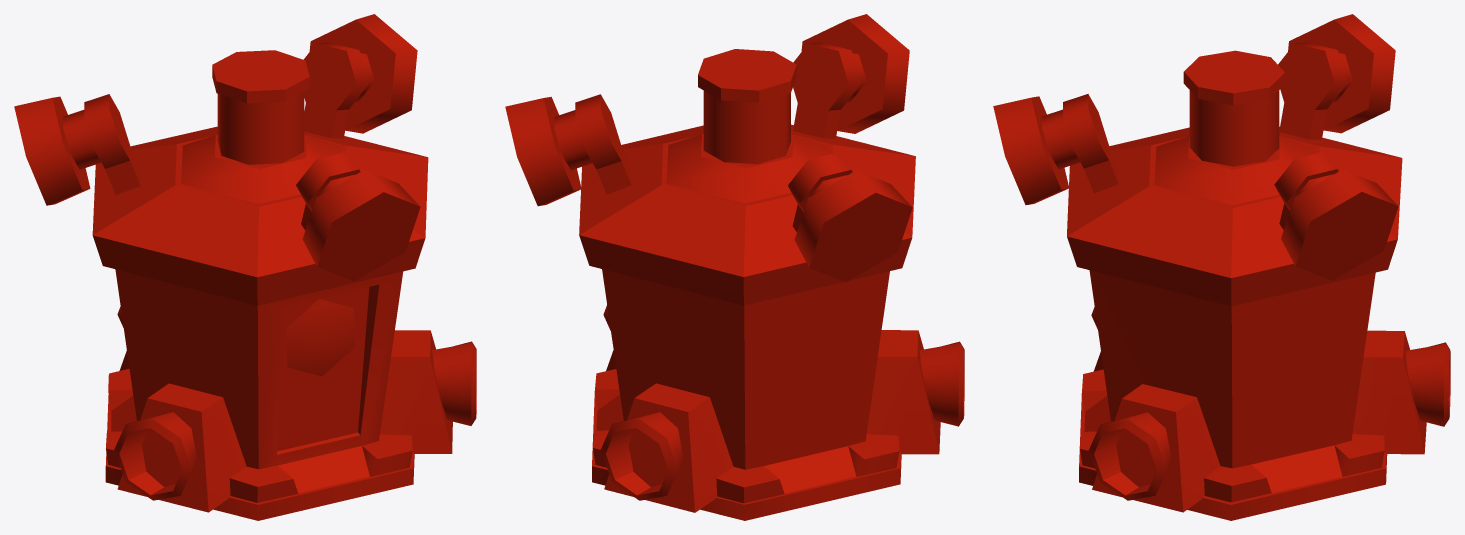
Rendered from (RED) Security Center -- Low (MAP) (attached exported).FBX.
3 renders of one model, left to right at view 1: azimuth 30°, elevation 25°; view 2: azimuth 150°, elevation 25°; view 3: azimuth 270°, elevation 25°, orthographic.
Visible parts, largest first — view 1: Vigilance Camera B; view 2: Vigilance Camera B; view 3: Vigilance Camera B.
Boxes of the visible parts, x1=… form: Vigilance Camera B: x1=14, y1=14, x2=476, y2=520; Vigilance Camera B: x1=505, y1=14, x2=964, y2=520; Vigilance Camera B: x1=993, y1=14, x2=1450, y2=520.
Size of the model in its own units: 80.77 by 73.33 by 81.28.
